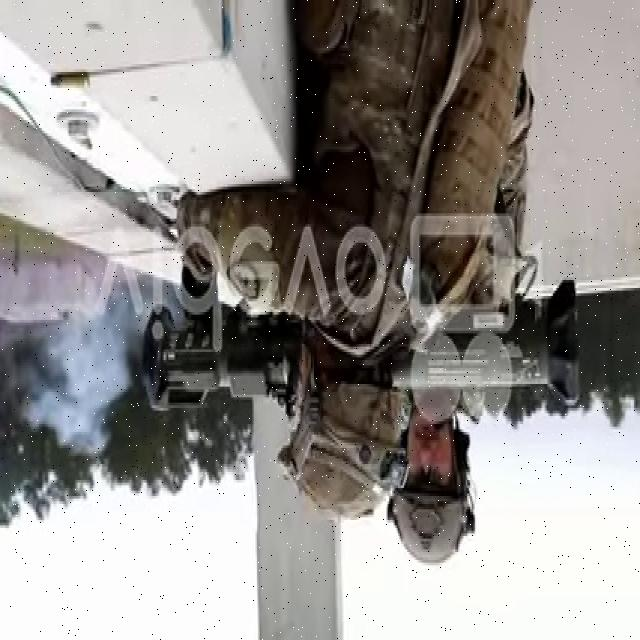bazooka: (141, 272, 588, 419)
